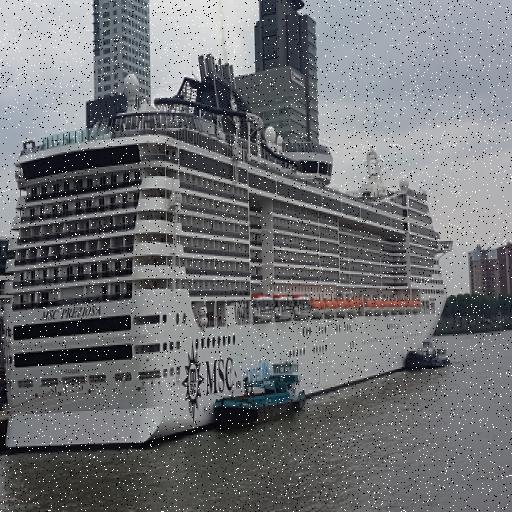cruises: (1, 48, 457, 459)
